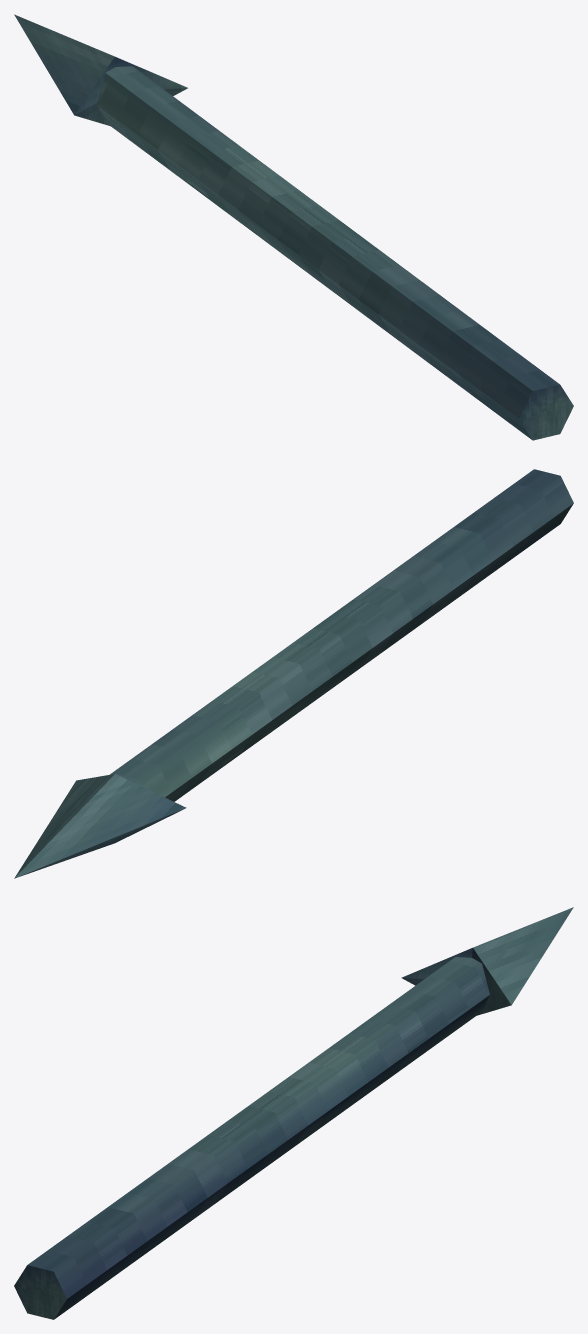
File: Arrow.gltf
3 views of the same model, one above another, from view 1: azimuth 30°, elevation 25°; view 2: azimuth 150°, elevation 25°; view 3: azimuth 330°, elevation 25° (orthographic). The views are drawn at different scales.
Parts seen in each view (by area): view 1: syaft, 円錐; view 2: syaft, 円錐; view 3: syaft, 円錐.
Boxes of the visible parts, <box> form: syaft: <box>97,66,573,440</box>; 円錐: <box>14,14,187,126</box>; syaft: <box>110,469,573,801</box>; 円錐: <box>14,774,186,878</box>; syaft: <box>14,957,489,1319</box>; 円錐: <box>401,907,573,1015</box>.
Size of the model in its own units: 0.3127 by 0.1865 by 2.57.
Materials: 1 (1 with a texture image).
